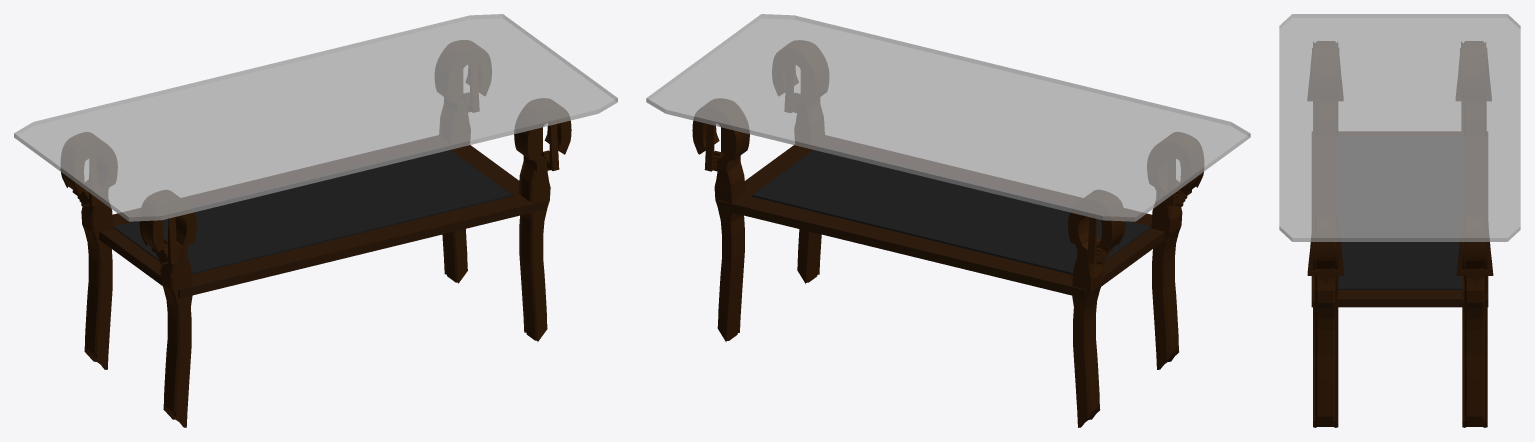
The model's file is Table.fbx.
3 views of the same model, side by side, from view 1: azimuth 30°, elevation 25°; view 2: azimuth 150°, elevation 25°; view 3: azimuth 270°, elevation 25° (orthographic). The views are drawn at different scales.
Parts seen in each view (by area): view 1: Main Table, Desert Glass, Desert table, Leg1, Leg3, Leg4, Leg2; view 2: Main Table, Desert Glass, Desert table, Leg2, Leg4, Leg3, Leg1; view 3: Main Table, Desert Glass, Desert table, Leg2, Leg1, Leg4, Leg3.
Part boxes in pixels (x1,y1,x2,y2): Main Table: [14, 14, 617, 221]; Desert Glass: [113, 146, 511, 274]; Desert table: [99, 135, 546, 298]; Leg1: [514, 98, 571, 341]; Leg3: [139, 190, 196, 427]; Leg4: [60, 132, 117, 369]; Leg2: [435, 40, 491, 283]; Main Table: [646, 14, 1250, 221]; Desert Glass: [752, 146, 1151, 274]; Desert table: [718, 135, 1164, 298]; Leg2: [692, 98, 749, 341]; Leg4: [1068, 190, 1125, 427]; Leg3: [1147, 132, 1203, 369]; Leg1: [772, 40, 828, 283]; Main Table: [1279, 14, 1520, 241]; Desert Glass: [1337, 137, 1462, 289]; Desert table: [1311, 131, 1488, 307]; Leg2: [1456, 214, 1493, 427]; Leg1: [1307, 214, 1343, 427]; Leg4: [1456, 41, 1491, 137]; Leg3: [1307, 41, 1343, 137].
Bounding box in the file's own units: 646 × 297 × 294.
